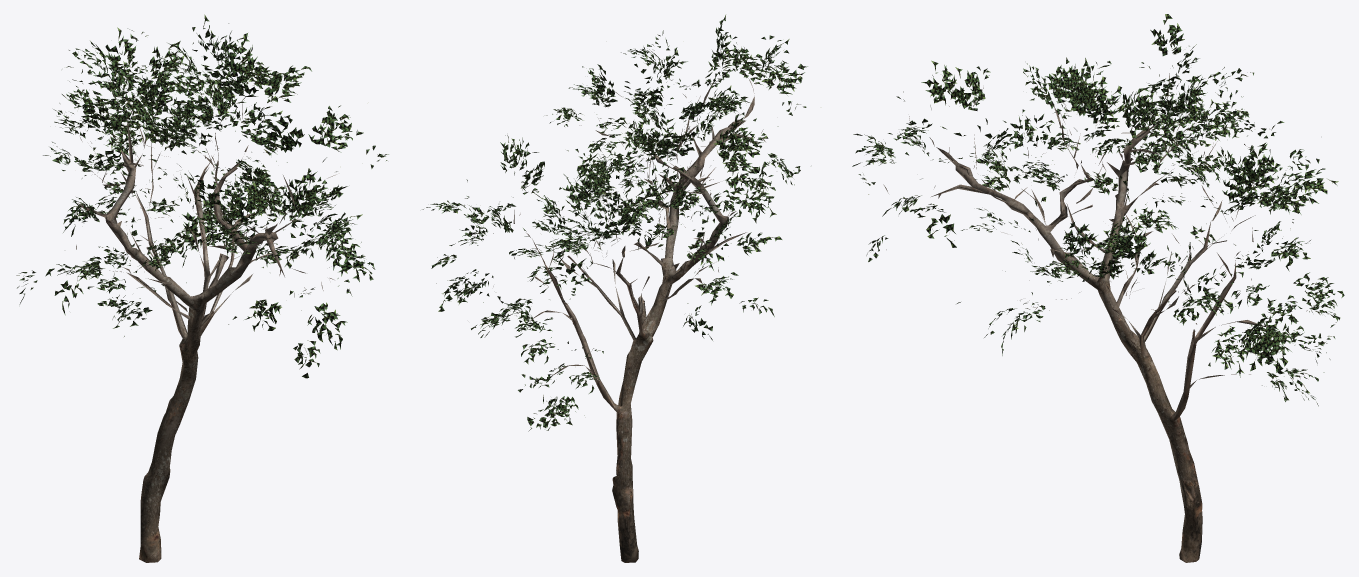
File: broadleaf-small.glb
3 views of the same model, side by side, from view 1: azimuth 30°, elevation 25°; view 2: azimuth 150°, elevation 25°; view 3: azimuth 270°, elevation 25° (orthographic). The views are drawn at different scales.
Parts seen in each view (by area): view 1: tree_small_02_LOD0; view 2: tree_small_02_LOD0; view 3: tree_small_02_LOD0.
Boxes of the visible parts, box(x1,y1,x2,y2) form: tree_small_02_LOD0: box(16, 14, 388, 562); tree_small_02_LOD0: box(422, 15, 807, 562); tree_small_02_LOD0: box(852, 14, 1344, 562).
Size of the model in its own units: 2.87 by 4.55 by 4.01.
3 materials, 3 textured.
